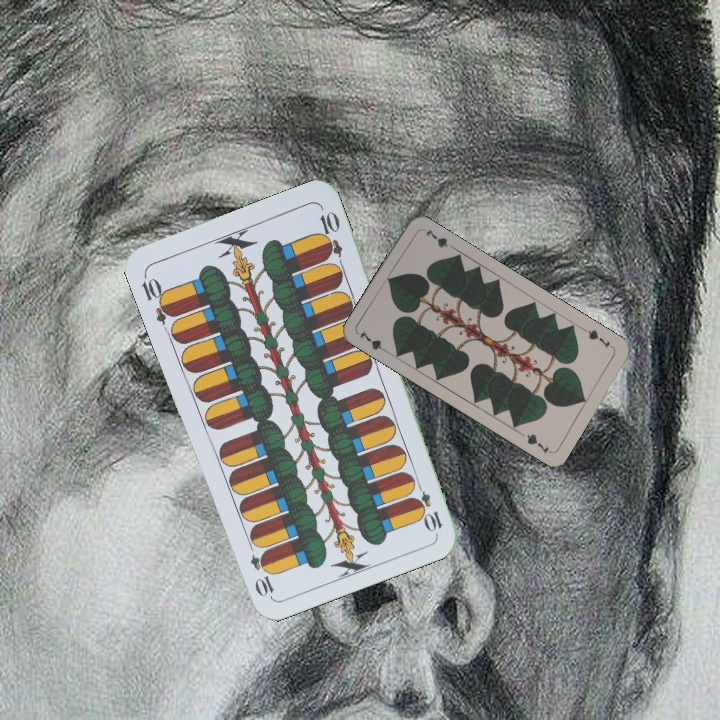E10: (137, 270, 177, 327), (410, 477, 445, 534)
G7: (355, 326, 392, 356), (580, 325, 616, 351)
